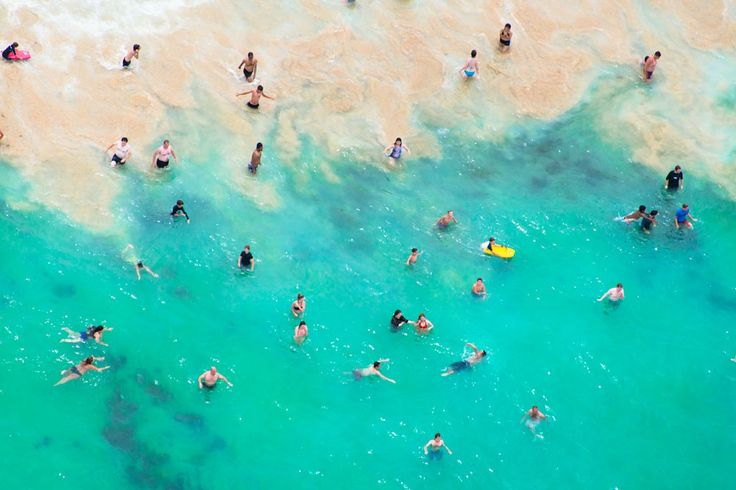people: (113, 244, 163, 286), (440, 340, 496, 376), (52, 358, 120, 385), (57, 321, 121, 348), (230, 83, 277, 117), (344, 359, 403, 385), (668, 200, 704, 235), (104, 137, 139, 172), (659, 163, 695, 196), (284, 289, 320, 320), (639, 49, 668, 87), (384, 303, 415, 338), (246, 142, 277, 177), (233, 243, 262, 279), (282, 318, 320, 345), (197, 365, 232, 394), (460, 50, 487, 87), (234, 51, 267, 81), (380, 134, 407, 170), (152, 138, 178, 174), (615, 197, 645, 228), (431, 208, 465, 235), (165, 200, 201, 225), (523, 404, 556, 430), (602, 281, 631, 309), (118, 43, 146, 71), (422, 430, 452, 456), (632, 205, 658, 235), (476, 229, 501, 260), (400, 245, 430, 270), (412, 308, 436, 336), (466, 276, 492, 300), (495, 22, 515, 53), (1, 37, 22, 58)
